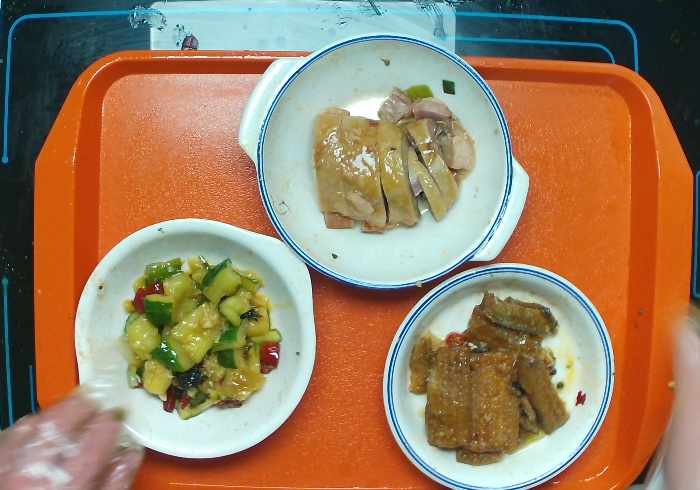HZYJPL-Dai_Er_Bai_Yuan_Wan: (69, 215, 325, 467)
HZYJPL-Lan_Bian_Dai_Er_Wan: (229, 29, 534, 295)
HZYJPL-Lan_Bian_Yuan_Die: (373, 256, 622, 490)
